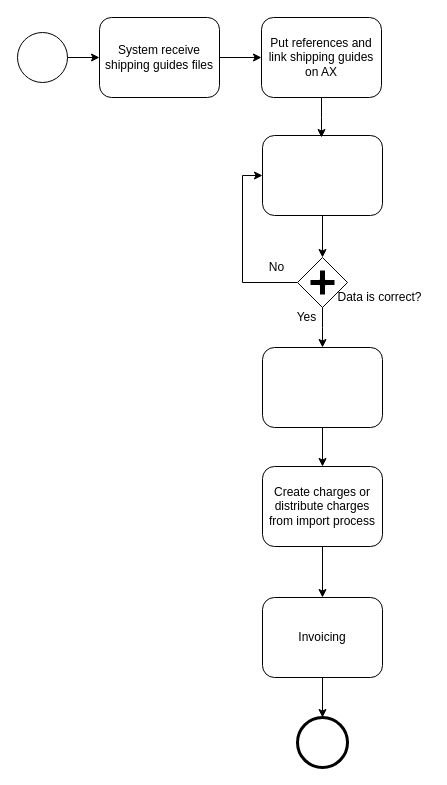
This 447x785 diagram has some shape labels left out. The centre of each missing label's shape, as x and y in pixels:
Receive: (x=322, y=387)
Verification of shipping guides data and receipt on PO: (x=322, y=175)
